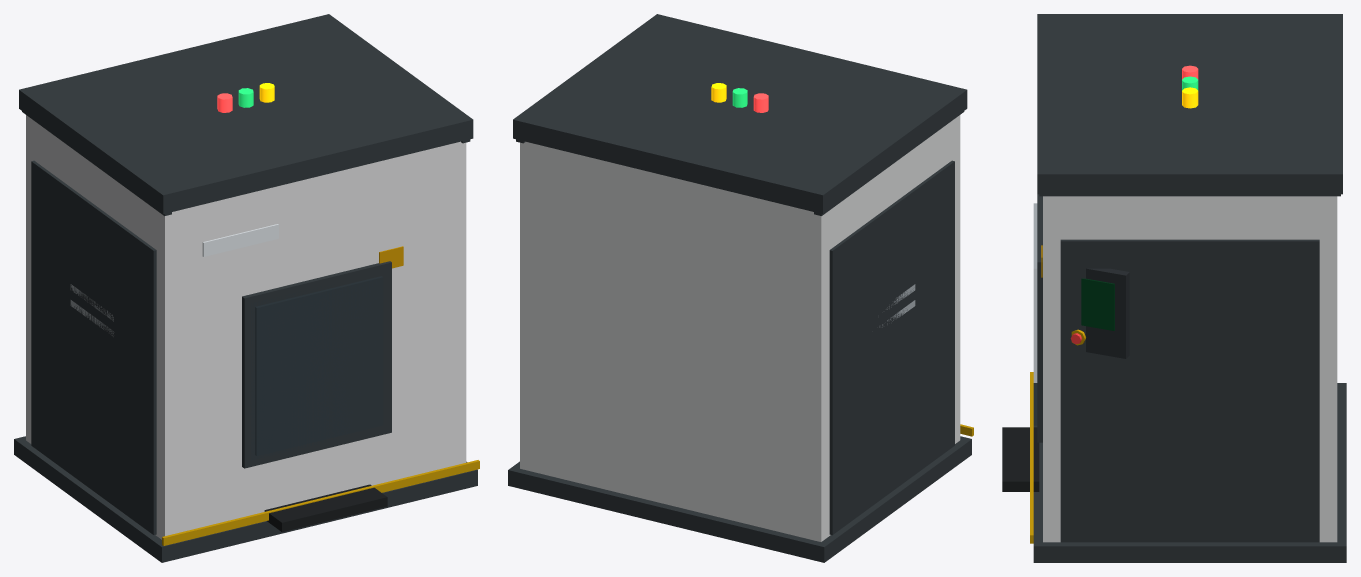
3 views of the same model, side by side, from view 1: azimuth 30°, elevation 25°; view 2: azimuth 150°, elevation 25°; view 3: azimuth 270°, elevation 25° (orthographic). The views are drawn at different scales.
Visible parts, largest first — view 1: machine:body, machine:roof, machine:panel:-1, door:frame, door:inner, machine:plinth, machine:chip-tray, marking:warning-stripe, door:loading, label:equipment; view 2: machine:body, machine:roof, machine:panel:-1, machine:plinth; view 3: machine:panel:1, machine:roof, machine:body, machine:plinth, panel:body, machine:chip-tray, signal:panel-screen, door:frame, machine:bevel:1, marking:warning-stripe, door:inner.
Part boxes in pixels (x1,y1,x2,y2): machine:body: (26,115,466,539); machine:roof: (19,14,473,214); machine:panel:-1: (31,160,156,534); door:frame: (242,261,391,468); door:inner: (255,276,382,455); machine:plinth: (14,436,477,562); machine:chip-tray: (264,484,387,532); marking:warning-stripe: (162,460,479,545); door:loading: (251,285,339,460); label:equipment: (202,224,278,256); machine:body: (520,115,960,541); machine:roof: (513,14,967,213); machine:panel:-1: (829,160,954,535); machine:plinth: (508,436,971,562); machine:panel:1: (1060,239,1319,542); machine:roof: (1037,14,1342,194); machine:body: (1043,196,1337,542); machine:plinth: (1033,383,1346,562); panel:body: (1086,268,1129,358); machine:chip-tray: (1002,427,1039,491); signal:panel-screen: (1081,278,1114,330); door:frame: (1037,194,1042,442); machine:bevel:1: (1039,194,1340,196); marking:warning-stripe: (1030,372,1033,543); door:inner: (1034,203,1036,425).
Size of the model in its own units: 2.16 by 2.41 by 1.87.
